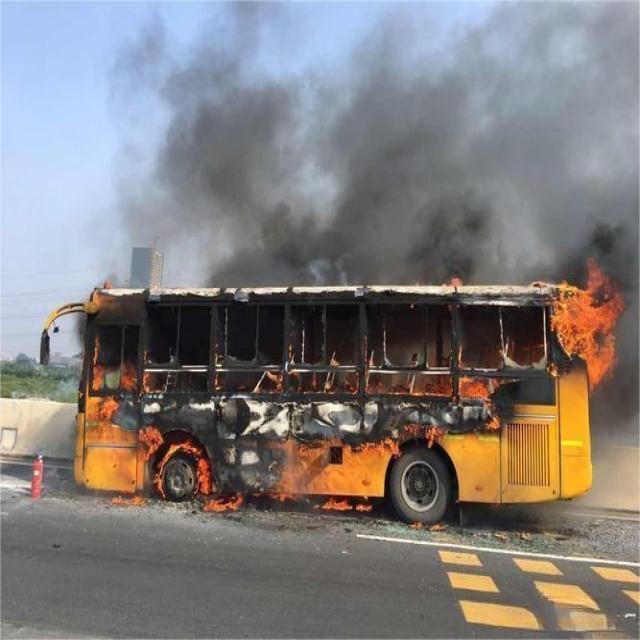Fire: (549, 261, 626, 390)
Smoke: (109, 1, 640, 284)
